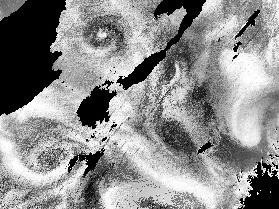CE: (22, 134, 74, 187), (79, 10, 127, 55)
